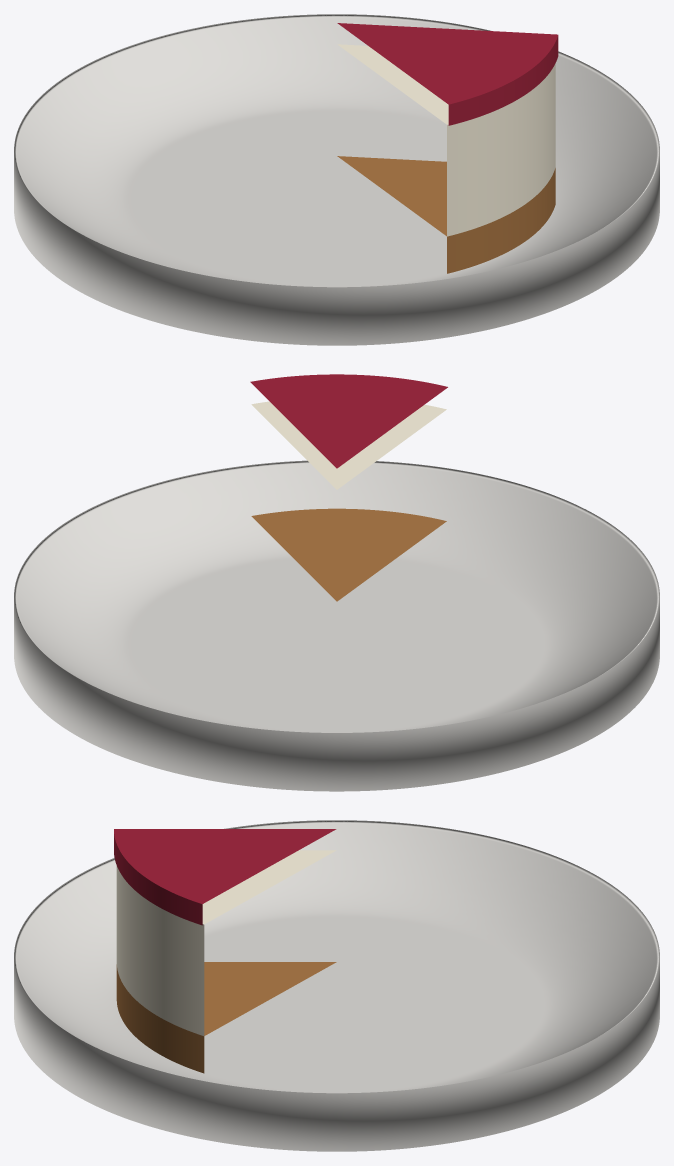
The model's file is fatia-hero.glb.
The picture shows the model from 3 angles, top to bottom: view 1: azimuth 30°, elevation 25°; view 2: azimuth 150°, elevation 25°; view 3: azimuth 270°, elevation 25°; orthographic projection.
Bounding box in the file's own units: 0.22 × 0.07 × 0.22.
